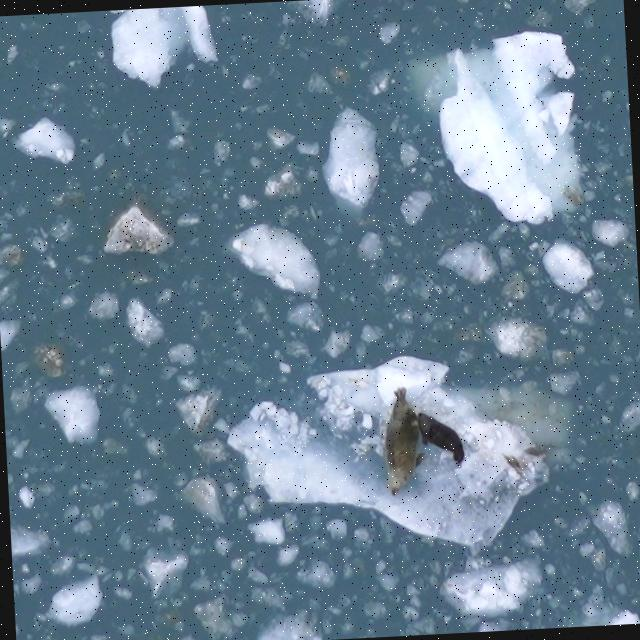seal: (378, 380, 425, 501), (413, 404, 469, 470)
